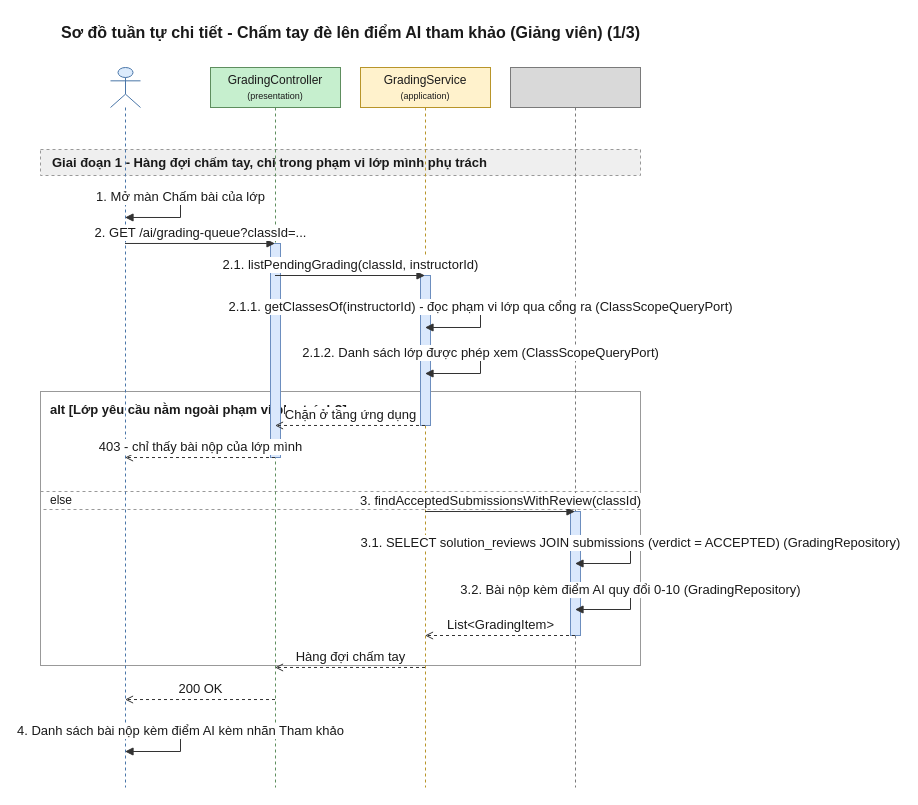
The diagram is 918 pixels wide and 805 high, and some of its shapes have lost their labels. The box of each missing label's shape, as (x1, y1, x2, y2) in pixels:
Giảng viên: (110, 66, 140, 788)
PostgreSQL (schema ai): (510, 66, 640, 788)
